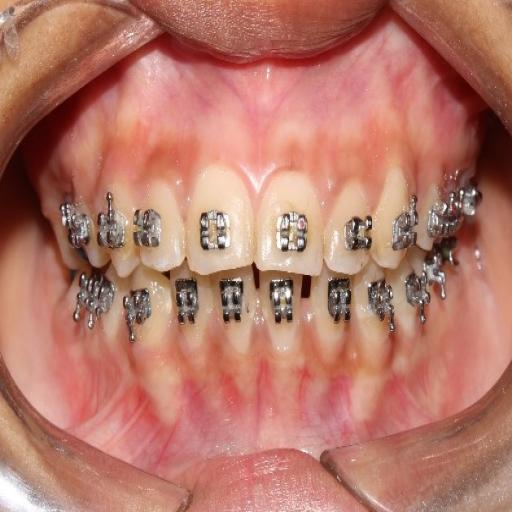correct_brace: (196, 206, 230, 253), (275, 206, 309, 252), (345, 210, 375, 258), (98, 202, 124, 252), (134, 205, 158, 250), (392, 208, 418, 249)
incorrect_brace: (138, 180, 186, 267), (326, 182, 371, 270)
